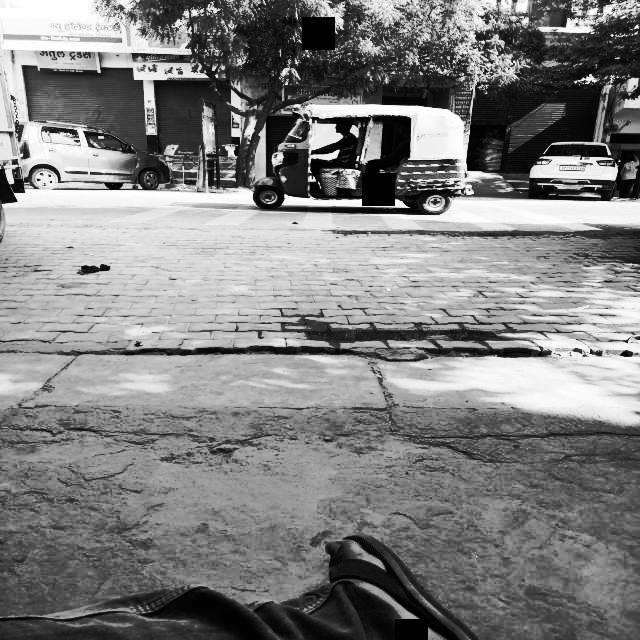Auto-Rickshaw: (248, 103, 476, 210)
Car: (5, 113, 180, 195), (524, 130, 624, 210)
